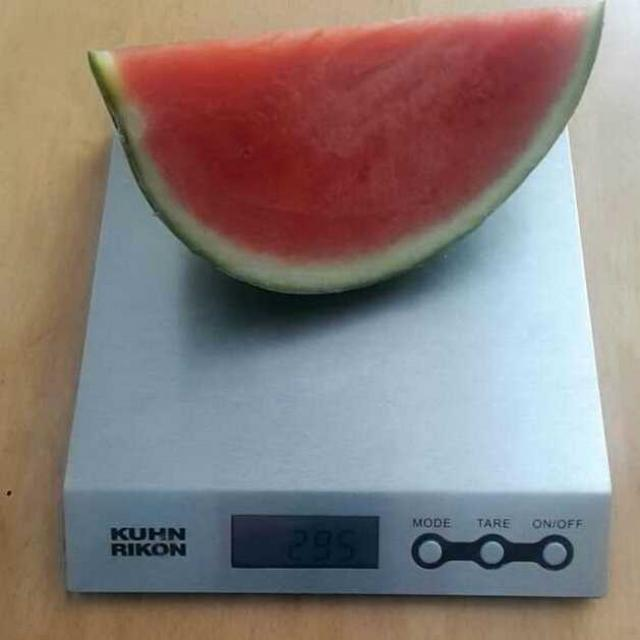watermelon: (96, 32, 588, 292)
